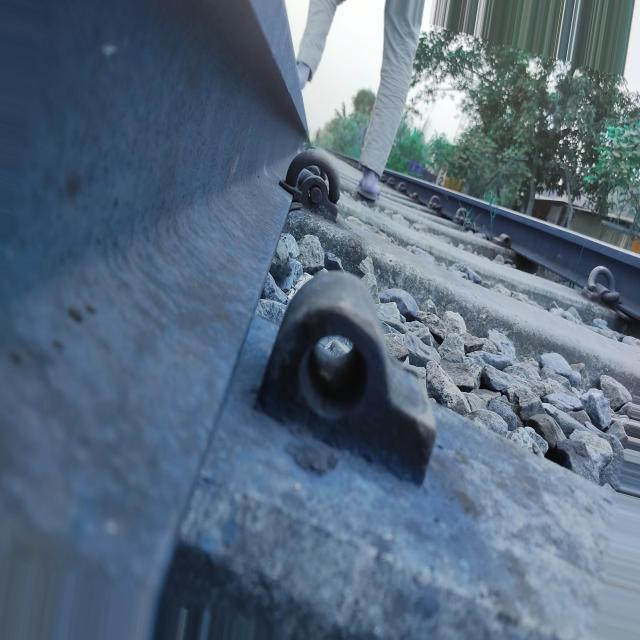Good Fasteners: (280, 149, 340, 222), (583, 266, 620, 307), (453, 205, 470, 230), (428, 195, 441, 213)
Missing Fastener: (257, 270, 436, 485), (492, 233, 511, 248)
